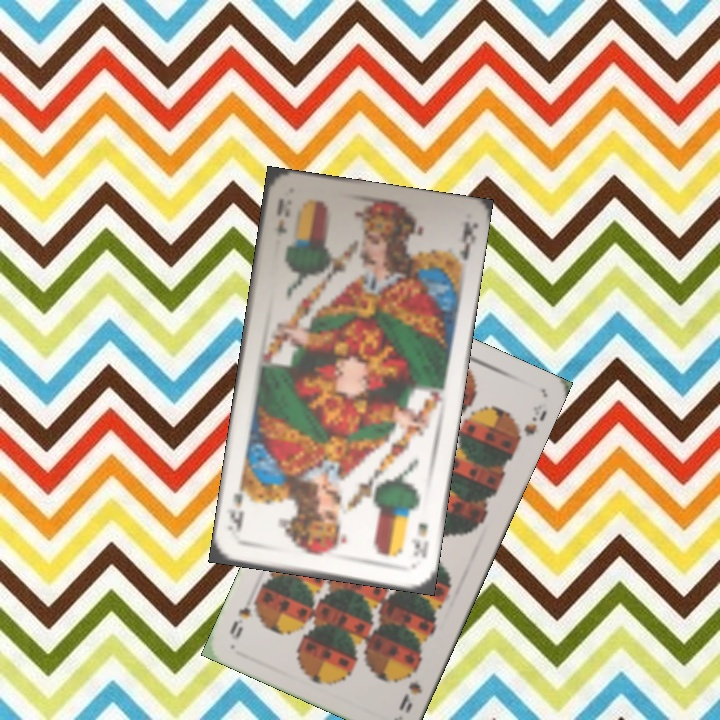EK: (407, 518, 432, 562), (272, 194, 292, 237)
S9: (394, 659, 425, 716)
